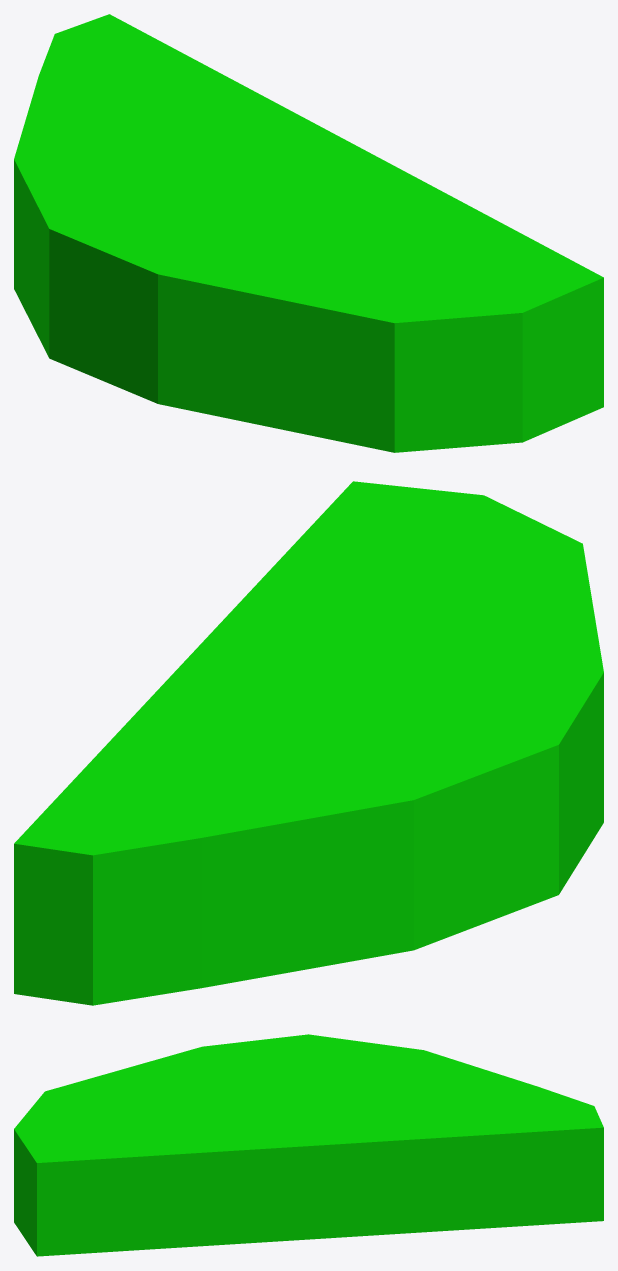
3 views of the same model, one above another, from view 1: azimuth 30°, elevation 25°; view 2: azimuth 150°, elevation 25°; view 3: azimuth 270°, elevation 25° (orthographic). The views are drawn at different scales.
Visible parts, largest first — view 1: Plane.012; view 2: Plane.012; view 3: Plane.012.
Boxes of the visible parts, x1=… form: Plane.012: x1=14, y1=14, x2=603, y2=452; Plane.012: x1=14, y1=481, x2=603, y2=1005; Plane.012: x1=14, y1=1034, x2=603, y2=1256.
Size of the model in its own units: 393 by 133 by 762.
